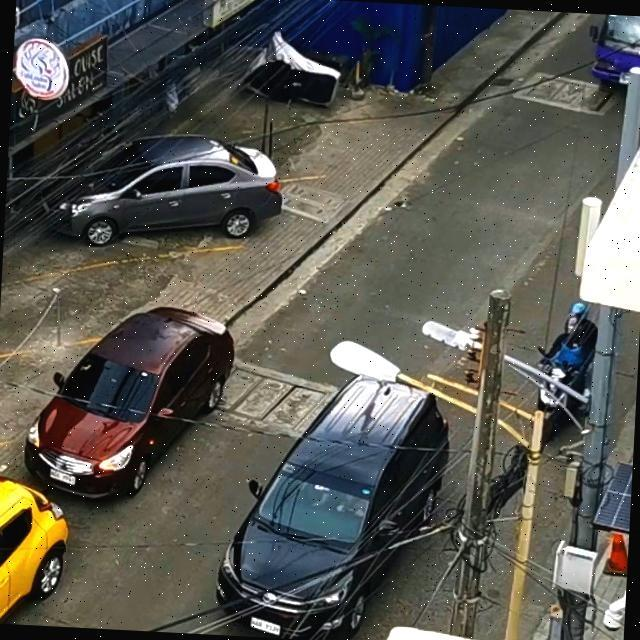Truck: (572, 13, 640, 118)
